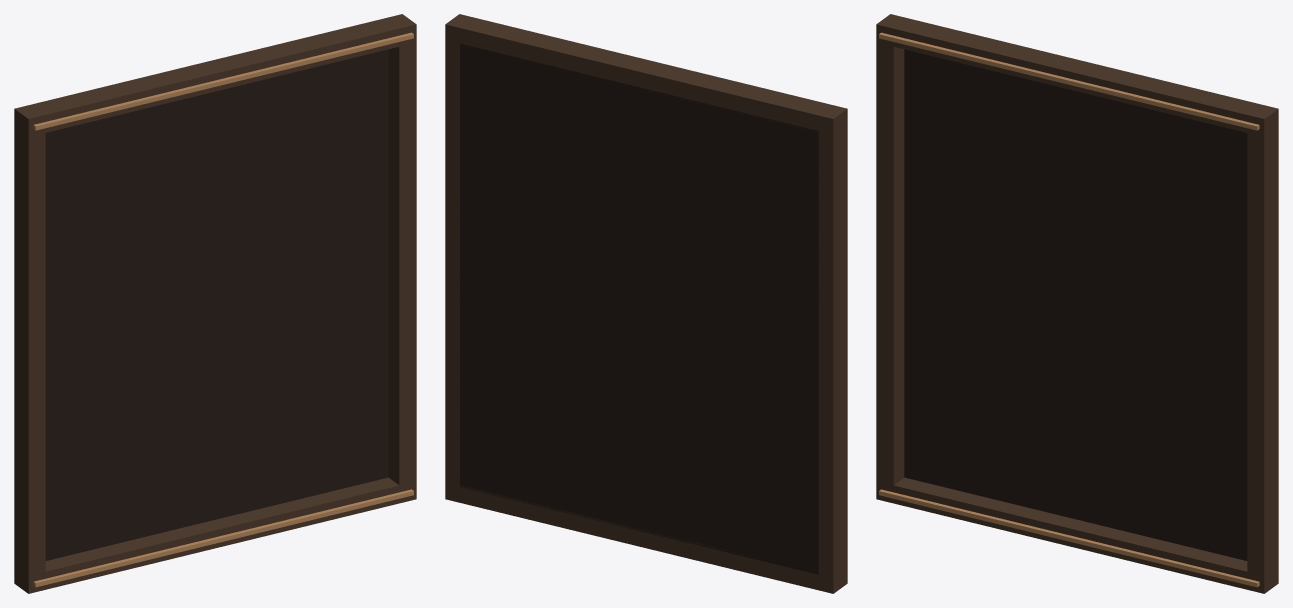
The model's file is family_portrait.glb.
3 renders of one model, left to right at view 1: azimuth 30°, elevation 25°; view 2: azimuth 150°, elevation 25°; view 3: azimuth 330°, elevation 25°, orthographic.
Parts seen in each view (by area): view 1: family_portrait; view 2: family_portrait; view 3: family_portrait.
Boxes of the visible parts, left/top/right/bottom form: family_portrait: left=14, top=14, right=416, bottom=593; family_portrait: left=445, top=14, right=847, bottom=593; family_portrait: left=876, top=14, right=1278, bottom=593.
Bounding box in the file's own units: 0.787 × 0.92 × 0.058.
